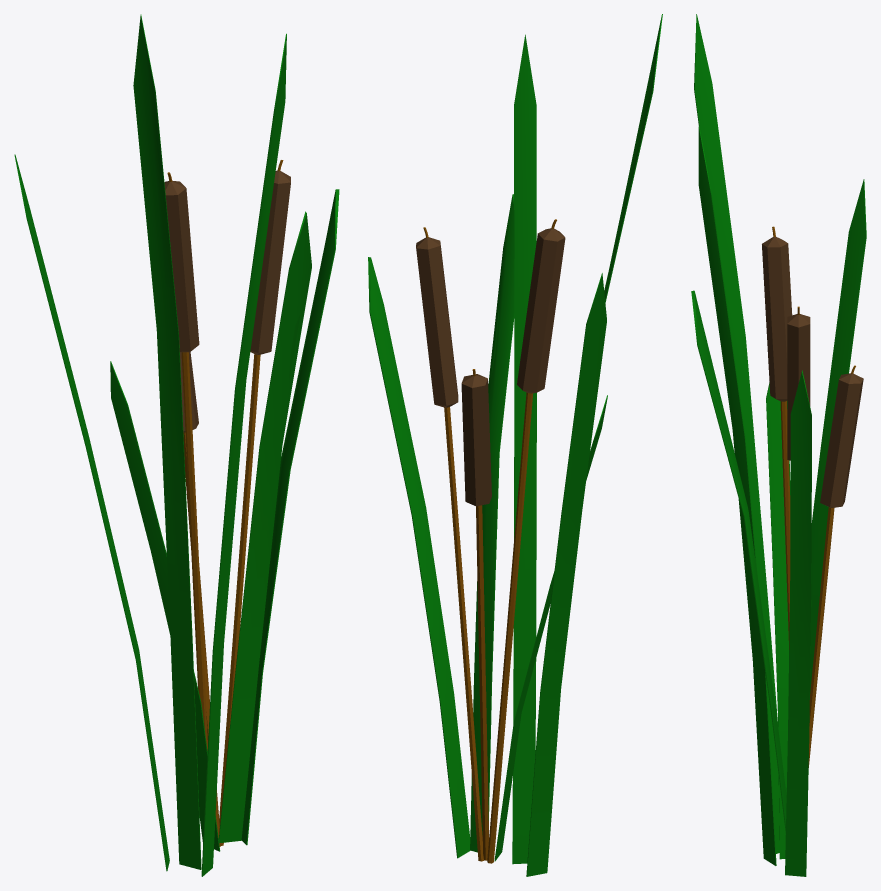
Rendered from Cattail_1 (1).fbx.
3 views of the same model, side by side, from view 1: azimuth 30°, elevation 25°; view 2: azimuth 150°, elevation 25°; view 3: azimuth 270°, elevation 25° (orthographic). The views are drawn at different scales.
Parts seen in each view (by area): view 1: pCylinder5; view 2: pCylinder5; view 3: pCylinder5.
Part boxes in pixels (<box>): pCylinder5: <box>14,14,339,876</box>; pCylinder5: <box>368,14,662,876</box>; pCylinder5: <box>691,14,866,876</box>.
Bounding box in the file's own units: 22.04 × 66.62 × 13.21.
